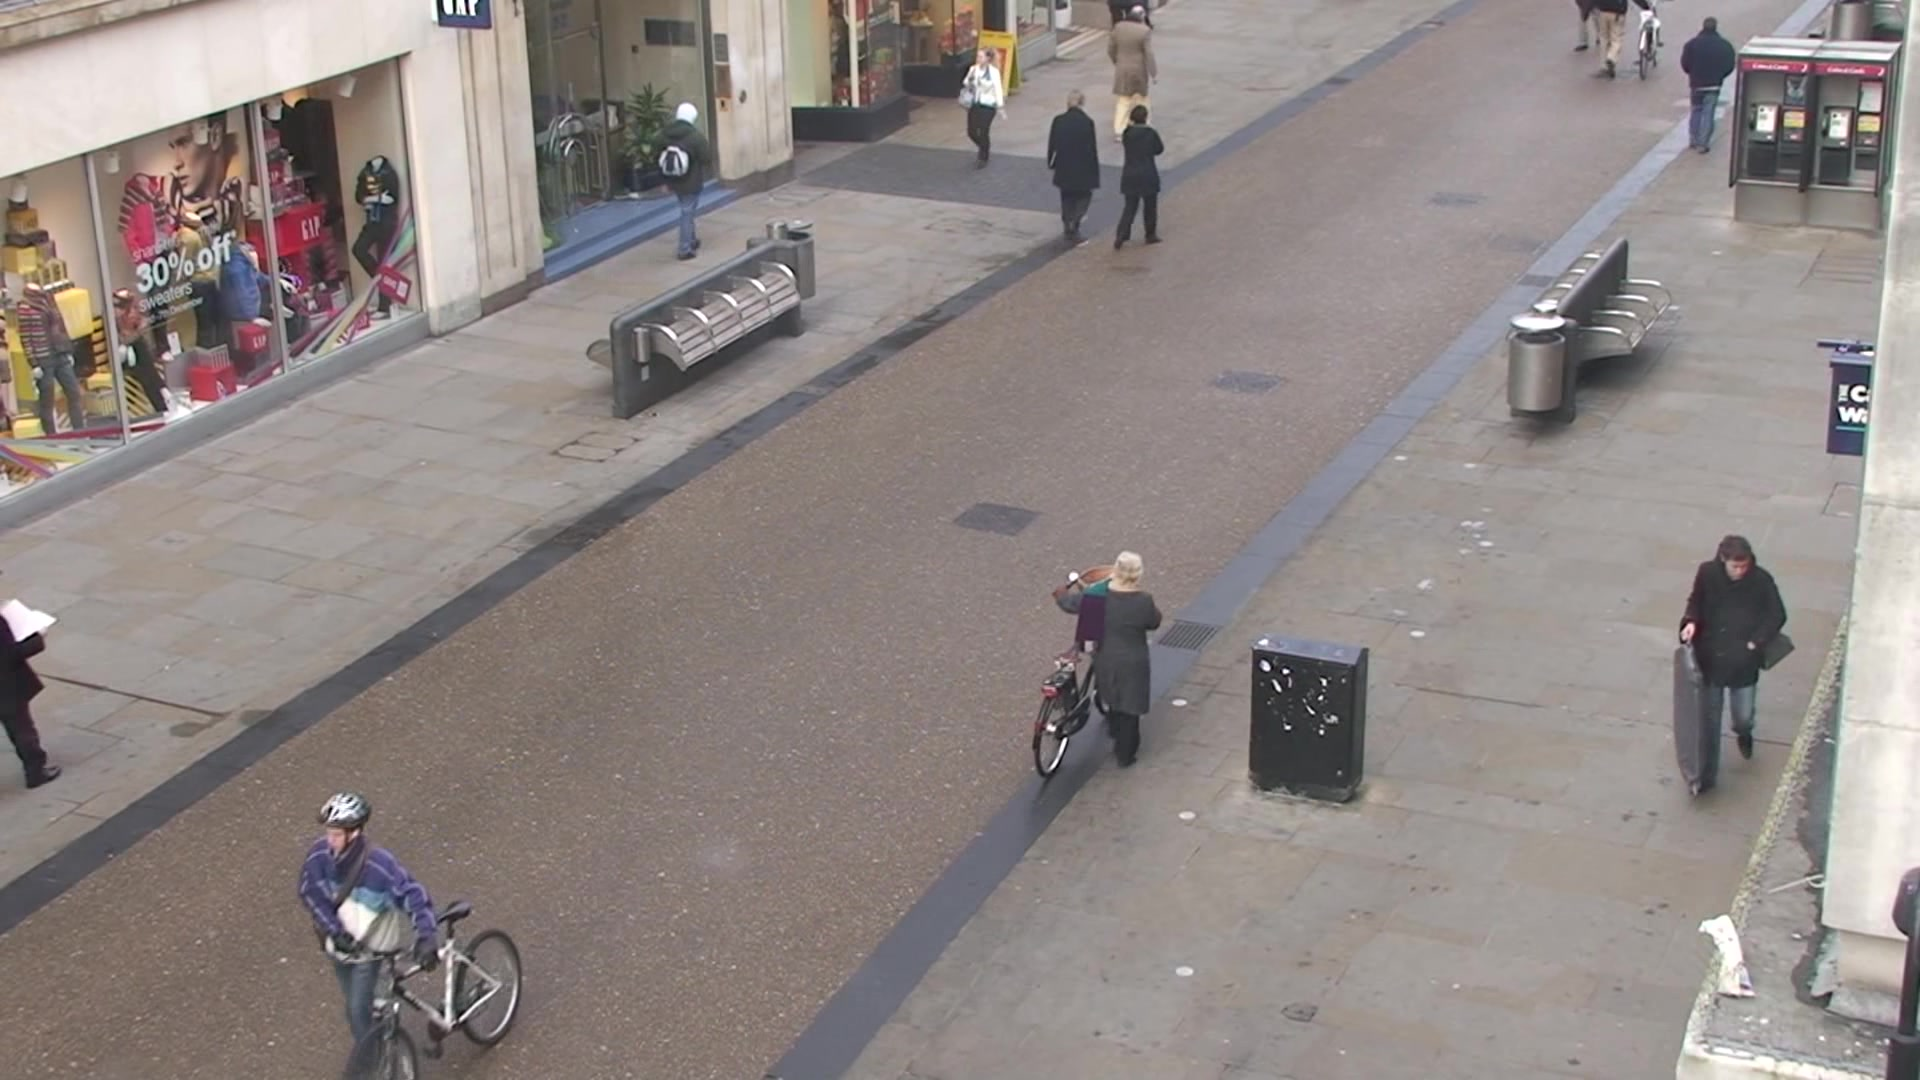person: (298, 793, 438, 1080), (1677, 533, 1787, 794), (1050, 549, 1163, 772), (654, 103, 719, 260), (1045, 90, 1102, 239), (1113, 104, 1168, 252), (1104, 6, 1163, 144), (1678, 16, 1734, 157), (952, 45, 1013, 175)
